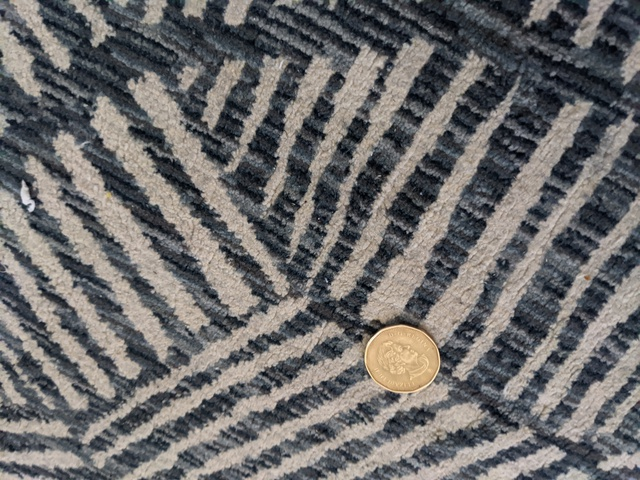loonie: (358, 309, 449, 401)
